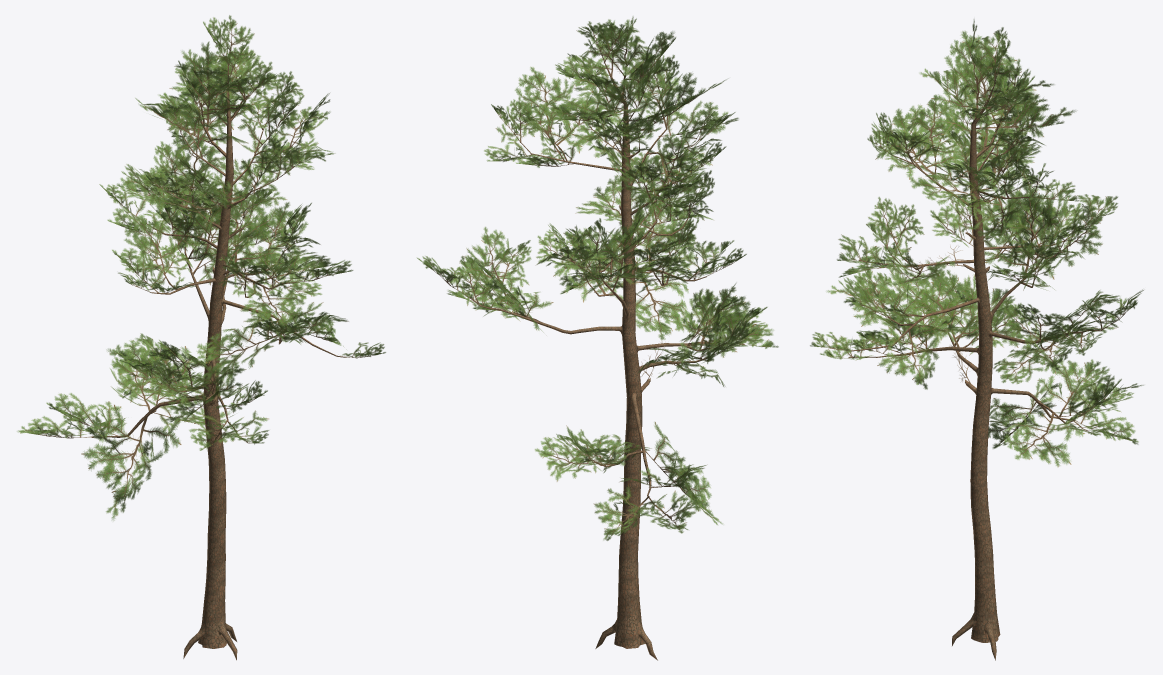
File: pine_pine_big_1_lod0.gltf
3 renders of one model, left to right at view 1: azimuth 30°, elevation 25°; view 2: azimuth 150°, elevation 25°; view 3: azimuth 270°, elevation 25°, orthographic. The views are drawn at different scales.
Parts seen in each view (by area): view 1: Pine_big_1_LOD0_Clusters_Mat_0, Pine_big_1_LOD0_Bark_Mat_0; view 2: Pine_big_1_LOD0_Clusters_Mat_0, Pine_big_1_LOD0_Bark_Mat_0; view 3: Pine_big_1_LOD0_Clusters_Mat_0, Pine_big_1_LOD0_Bark_Mat_0.
Part boxes in pixels (box(x1,y1,x2,y2)): Pine_big_1_LOD0_Clusters_Mat_0: box(17, 15, 385, 520); Pine_big_1_LOD0_Bark_Mat_0: box(91, 66, 346, 660); Pine_big_1_LOD0_Clusters_Mat_0: box(417, 16, 778, 540); Pine_big_1_LOD0_Bark_Mat_0: box(465, 62, 710, 660); Pine_big_1_LOD0_Clusters_Mat_0: box(810, 19, 1143, 467); Pine_big_1_LOD0_Bark_Mat_0: box(850, 84, 1107, 660).
Bounding box in the file's own units: 7.46 × 16.89 × 8.37.
2 materials, 2 textured.
